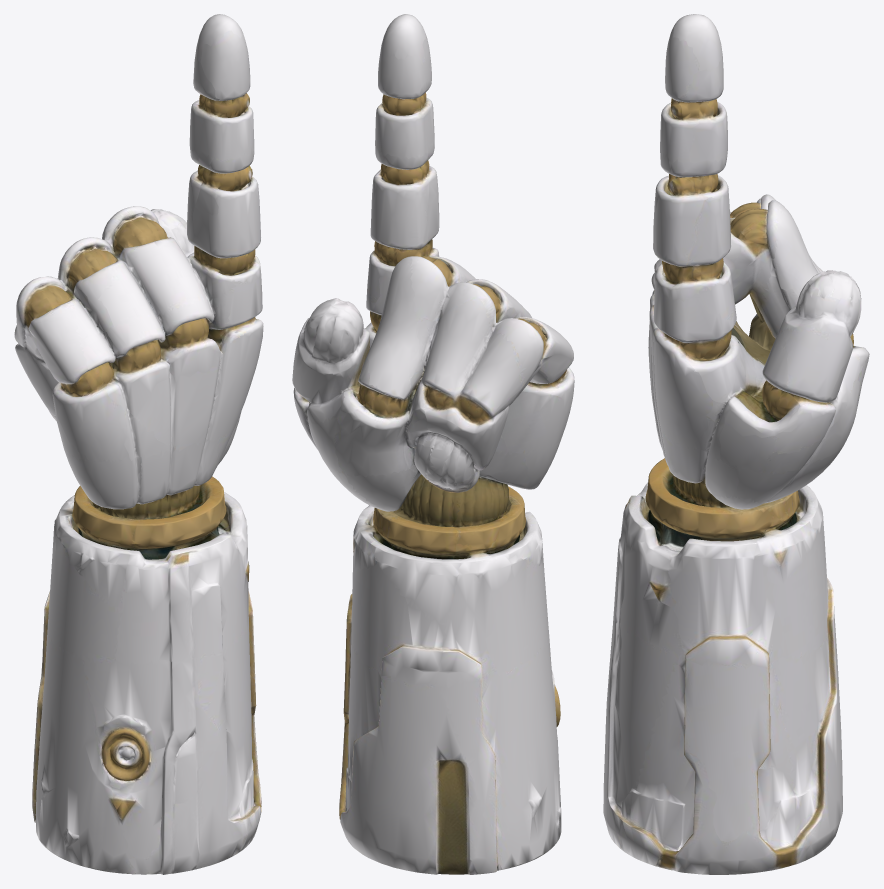
The model's file is tutorial-hand-v1.glb.
3 renders of one model, left to right at view 1: azimuth 30°, elevation 25°; view 2: azimuth 150°, elevation 25°; view 3: azimuth 270°, elevation 25°, orthographic. The views are drawn at different scales.
Bounding box in the file's own units: 0.5771 × 1.9 × 0.543.
1 material, 1 textured.
